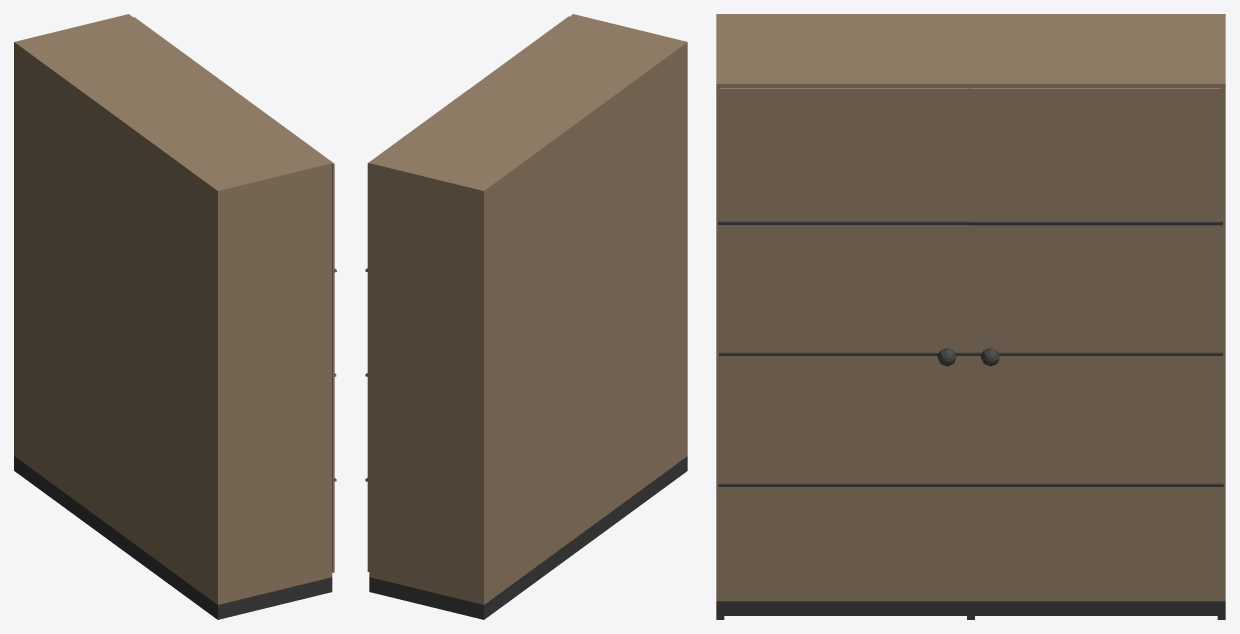
Rendered from closet.fbx.
3 views of the same model, side by side, from view 1: azimuth 30°, elevation 25°; view 2: azimuth 150°, elevation 25°; view 3: azimuth 270°, elevation 25° (orthographic). The views are drawn at different scales.
Parts seen in each view (by area): view 1: closet1, door; view 2: closet1, door2; view 3: door2, door, closet1.
Part boxes in pixels (x1=…): closet1: x1=14, y1=14, x2=332, y2=619; door: x1=234, y1=90, x2=336, y2=572; closet1: x1=369, y1=14, x2=687, y2=619; door2: x1=365, y1=90, x2=468, y2=571; door2: x1=969, y1=88, x2=1223, y2=599; door: x1=718, y1=88, x2=971, y2=599; closet1: x1=716, y1=14, x2=1225, y2=619.
Size of the model in its own units: 0.7363 by 2.32 by 2.
